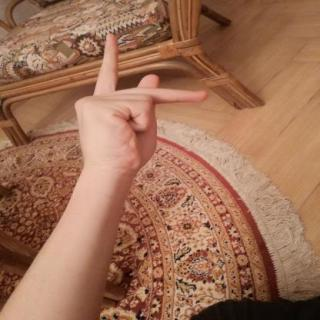DHAA: (65, 26, 218, 182)
